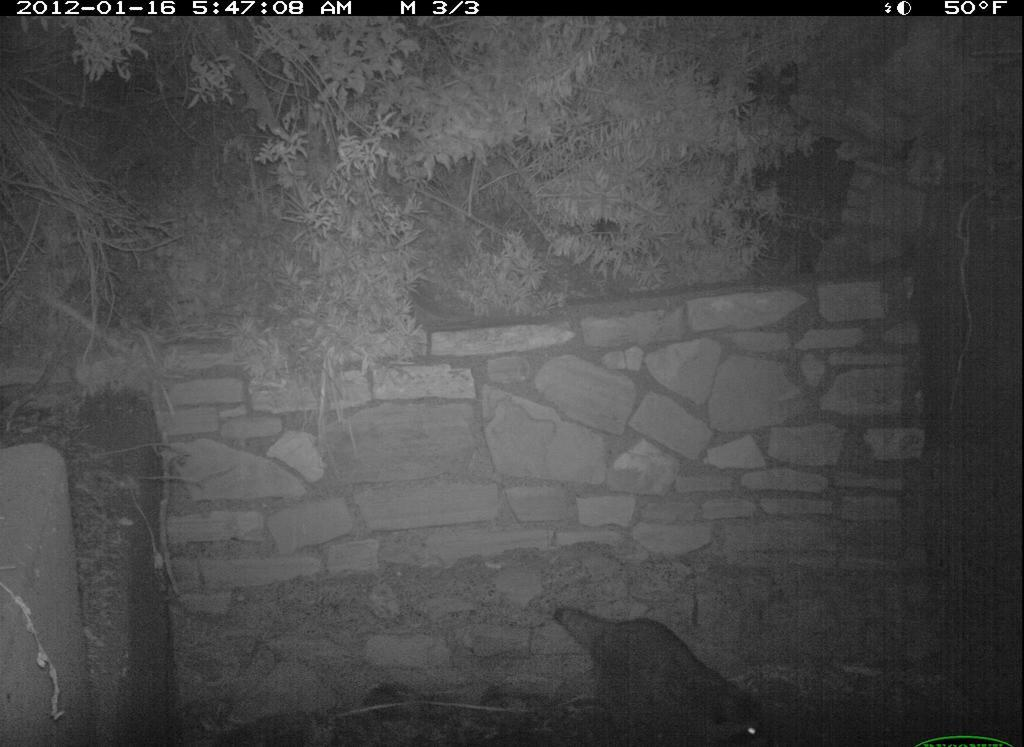raccoon: (547, 585, 793, 744)
